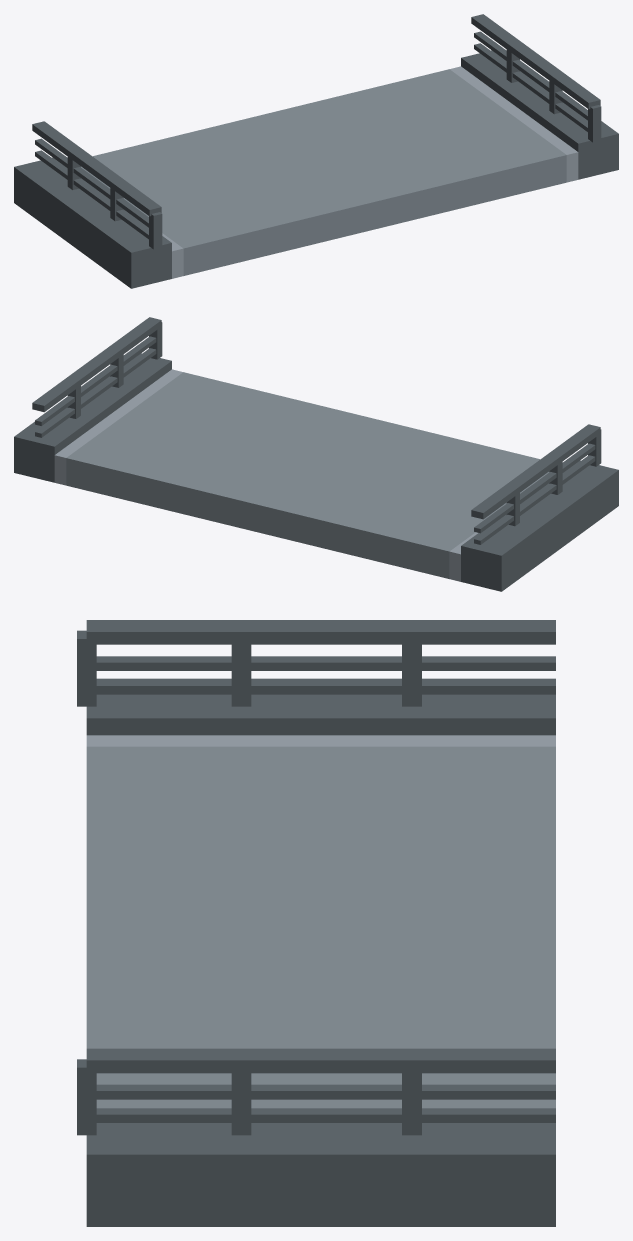
File: SM_Prop_Bridge_01.fbx
3 renders of one model, top to bottom at view 1: azimuth 30°, elevation 25°; view 2: azimuth 150°, elevation 25°; view 3: azimuth 270°, elevation 25°, orthographic. The views are drawn at different scales.
Parts seen in each view (by area): view 1: SM_Prop_Bridge_01; view 2: SM_Prop_Bridge_01; view 3: SM_Prop_Bridge_01.
Boxes of the visible parts, left/top/right/bottom form: SM_Prop_Bridge_01: left=14, top=14, right=618, bottom=288; SM_Prop_Bridge_01: left=14, top=317, right=618, bottom=591; SM_Prop_Bridge_01: left=77, top=620, right=555, bottom=1226.
Size of what is drawn, in the model's own units: 1200 by 511 by 175.
